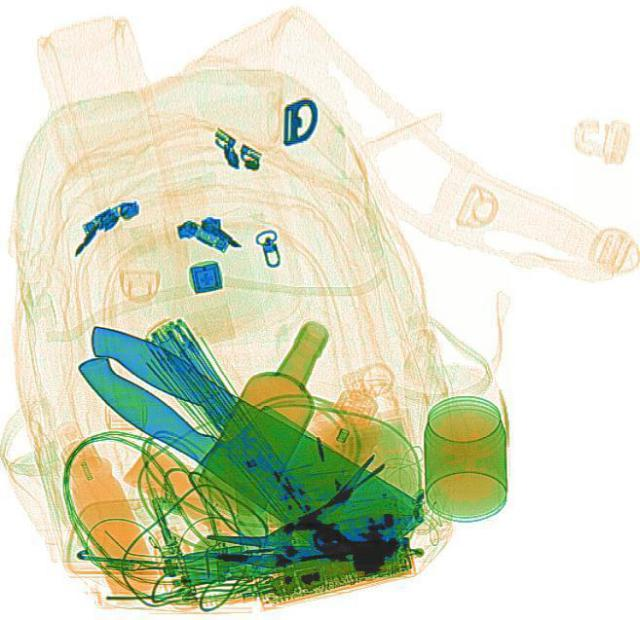Knife: (43, 308, 430, 585), (63, 308, 433, 577)
